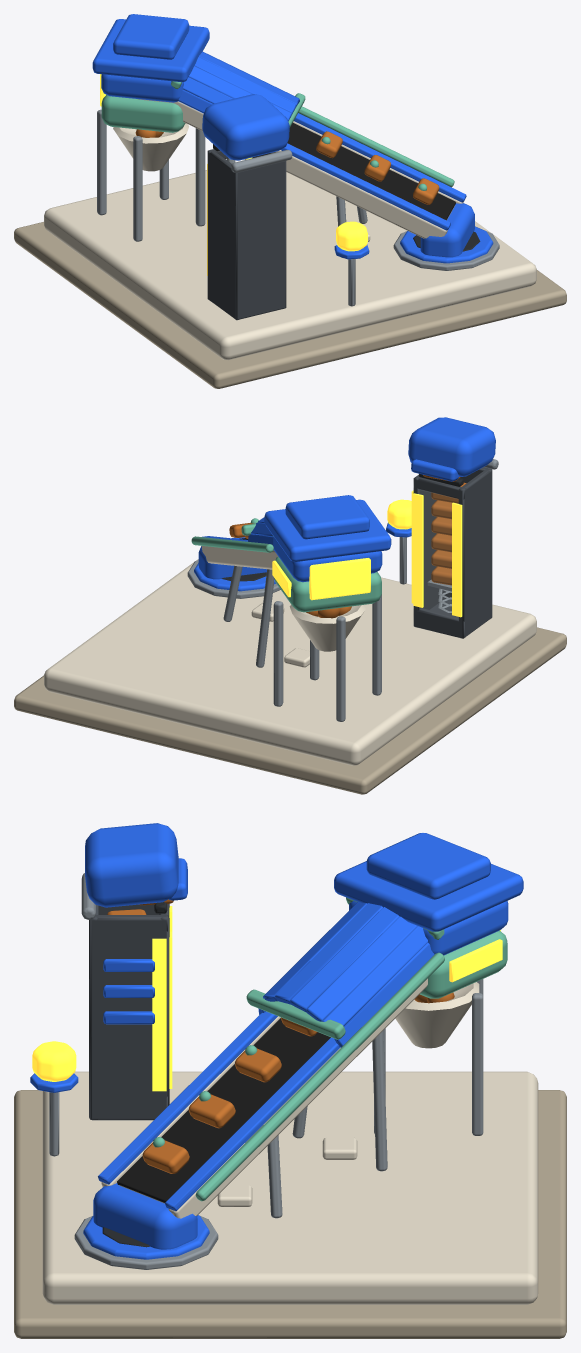
The model's file is deep_mine_copper.glb.
3 renders of one model, top to bottom at view 1: azimuth 30°, elevation 25°; view 2: azimuth 150°, elevation 25°; view 3: azimuth 270°, elevation 25°, orthographic. The views are drawn at different scales.
Visible parts, largest first — view 1: stage_1__M_CreamPlastic, stage_0__M_SugarPad, stage_2__M_SmokePlastic, stage_2__M_Team, stage_3__M_Team, stage_2__M_CreamPlastic, dm_head__M_Team, stage_2__M_SpringSteel, stage_2__M_Patina, stage_2__M_Licorice, stage_1__M_Team, stage_1__M_SpringSteel (+2 smaller); view 2: stage_1__M_CreamPlastic, stage_0__M_SugarPad, stage_2__M_SmokePlastic, stage_3__M_Team, stage_2__M_SpringSteel, dm_head__M_Team, stage_2__M_ClearGlass, stage_2__M_CreamPlastic, dm_warn__M_E_Amber, stage_2__M_Patina, dm_glow__M_E_Amber, stage_2__M_Team (+3 smaller); view 3: stage_1__M_CreamPlastic, stage_0__M_SugarPad, stage_2__M_Team, stage_2__M_SmokePlastic, stage_3__M_Team, stage_2__M_Licorice, stage_2__M_Patina, dm_head__M_Team, stage_1__M_Team, stage_2__M_CreamPlastic, stage_2__M_SpringSteel, dm_warn__M_E_Amber (+6 smaller).
Part boxes in pixels (x1,y1,x2,y2): stage_1__M_CreamPlastic: [44, 170, 536, 360]; stage_0__M_SugarPad: [14, 222, 566, 388]; stage_2__M_SmokePlastic: [207, 149, 286, 320]; stage_2__M_Team: [101, 51, 466, 230]; stage_3__M_Team: [92, 14, 209, 82]; stage_2__M_CreamPlastic: [113, 99, 463, 238]; dm_head__M_Team: [202, 94, 289, 160]; stage_2__M_SpringSteel: [97, 109, 367, 306]; stage_2__M_Patina: [101, 81, 454, 187]; stage_2__M_Licorice: [287, 123, 455, 220]; stage_1__M_Team: [400, 203, 493, 263]; stage_1__M_SpringSteel: [393, 227, 499, 270]; stage_1__M_CreamPlastic: [44, 559, 536, 765]; stage_0__M_SugarPad: [14, 627, 566, 794]; stage_2__M_SmokePlastic: [413, 467, 492, 638]; stage_3__M_Team: [264, 495, 391, 561]; stage_2__M_SpringSteel: [223, 537, 406, 721]; dm_head__M_Team: [408, 417, 495, 481]; stage_2__M_ClearGlass: [420, 490, 457, 617]; stage_2__M_CreamPlastic: [201, 546, 365, 651]; dm_warn__M_E_Amber: [411, 490, 462, 617]; stage_2__M_Patina: [191, 523, 381, 612]; dm_glow__M_E_Amber: [309, 558, 370, 600]; stage_2__M_Team: [202, 517, 382, 582]; stage_1__M_CreamPlastic: [42, 1071, 538, 1304]; stage_0__M_SugarPad: [14, 1090, 566, 1338]; stage_2__M_Team: [98, 901, 508, 1211]; stage_2__M_SmokePlastic: [89, 903, 169, 1120]; stage_3__M_Team: [334, 833, 523, 931]; stage_2__M_Licorice: [117, 1018, 330, 1202]; stage_2__M_Patina: [195, 897, 507, 1201]; dm_head__M_Team: [85, 823, 187, 907]; stage_1__M_Team: [83, 1183, 209, 1259]; stage_2__M_CreamPlastic: [101, 978, 479, 1218]; stage_2__M_SpringSteel: [49, 979, 483, 1218]; dm_warn__M_E_Amber: [152, 906, 172, 1091].
Size of the model in its own units: 1.92 by 1.22 by 1.92.
